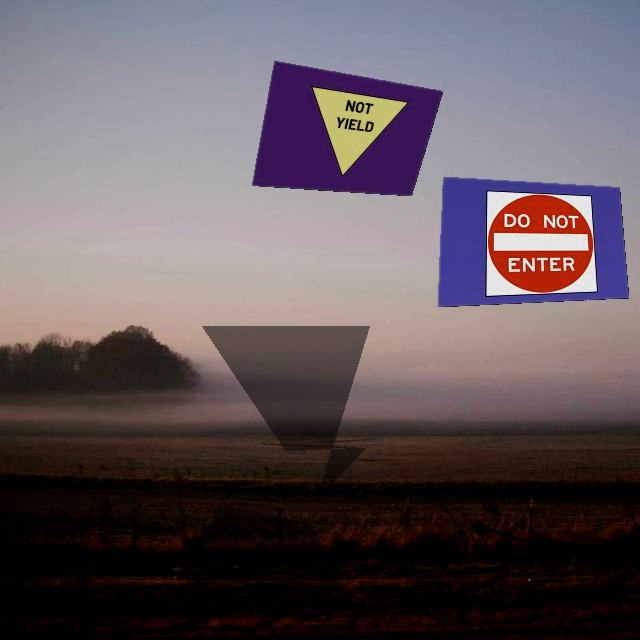DO_NOT_ENTER: (484, 182, 598, 300)
NOT_YIELD: (293, 86, 410, 181)
